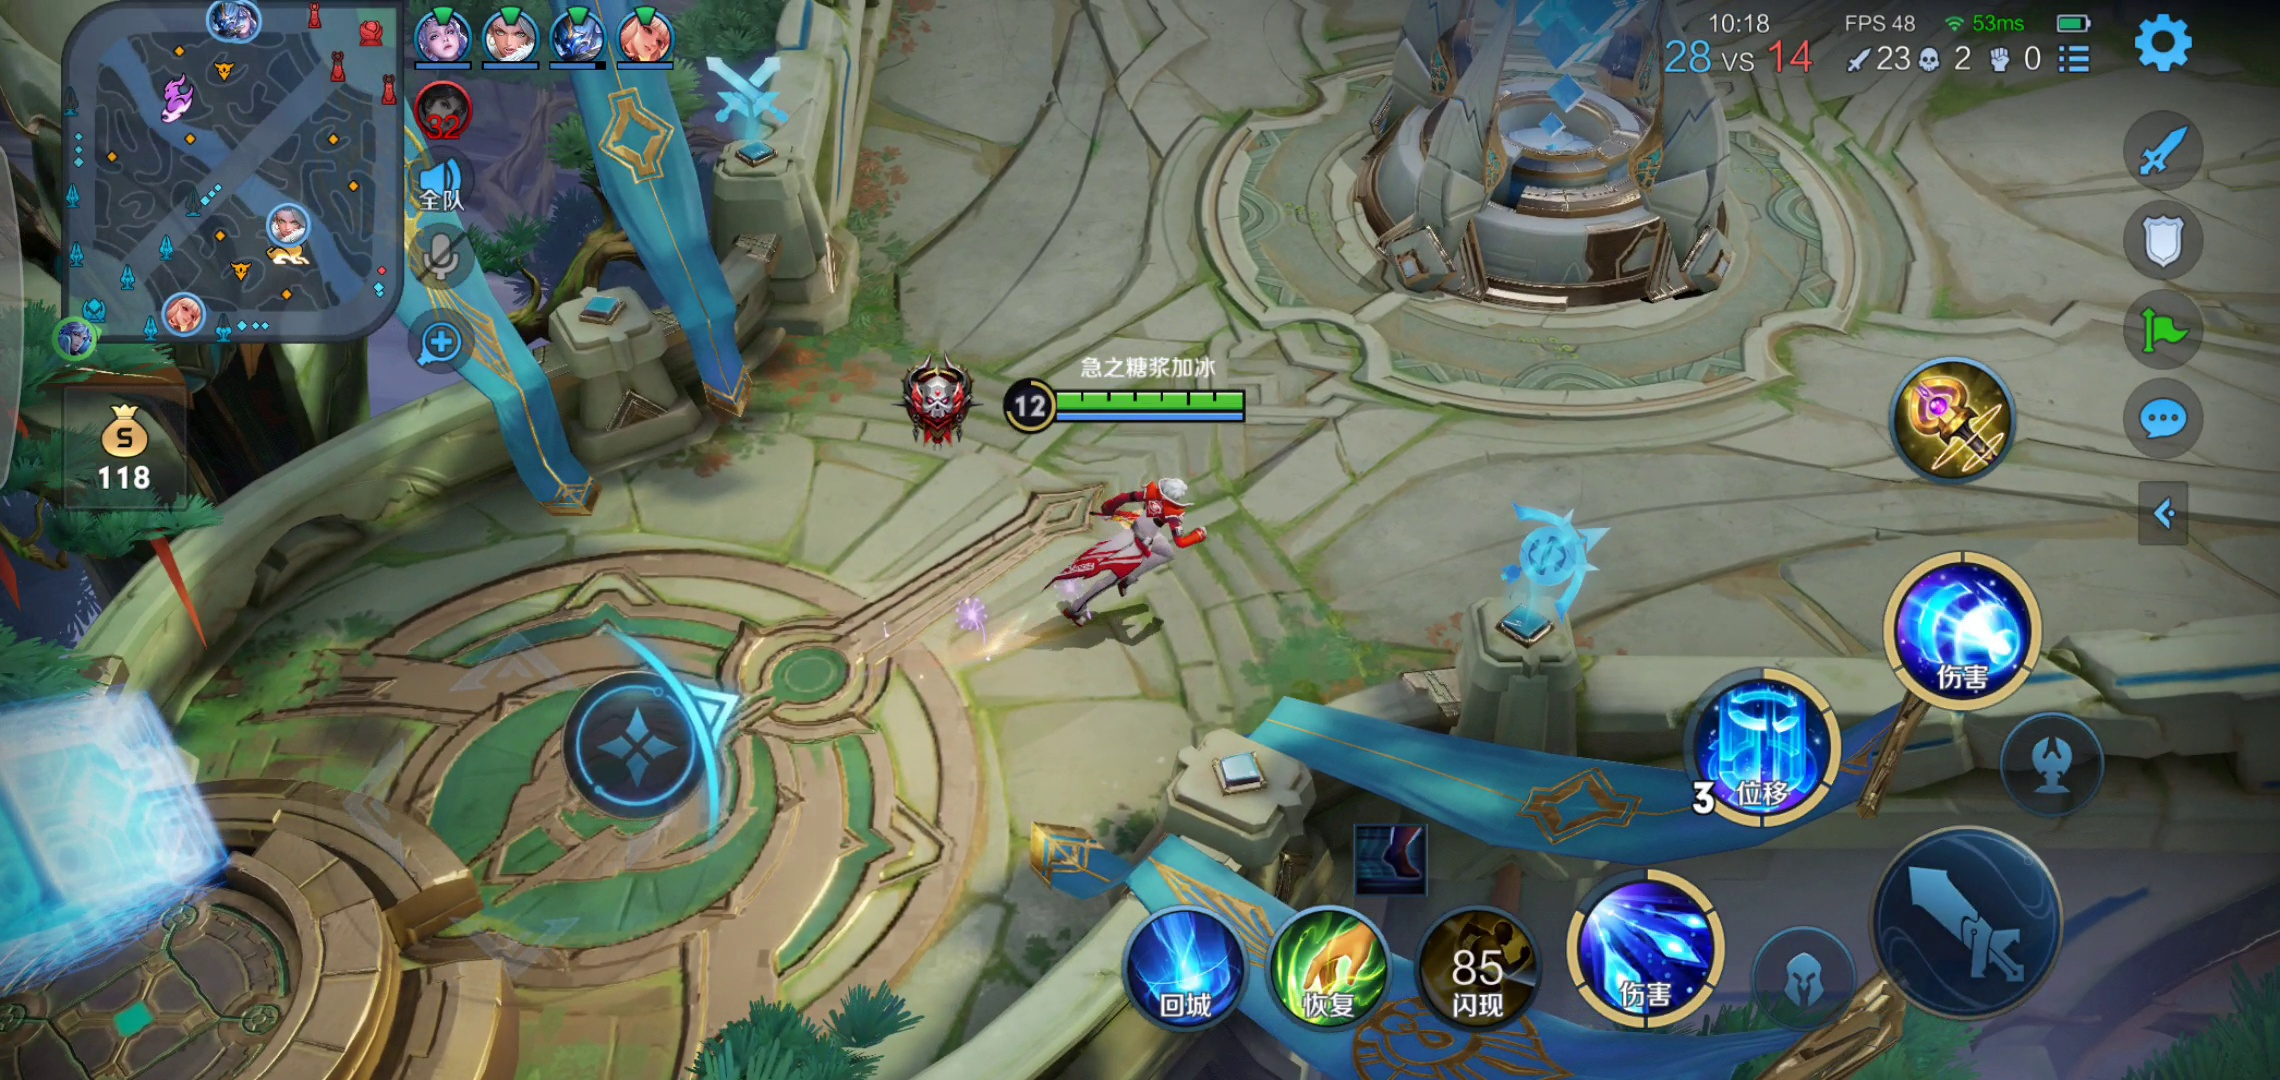crystal: (1341, 6, 1755, 304)
hero: (1050, 467, 1219, 653)
